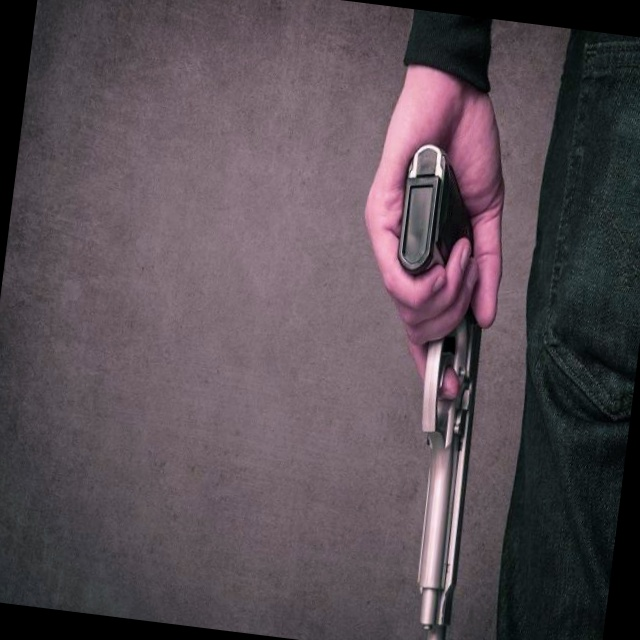gun: (308, 125, 533, 640)
